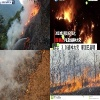fire: (50, 68, 100, 94), (25, 51, 46, 95), (25, 4, 40, 26), (79, 29, 93, 44), (56, 11, 71, 22), (20, 30, 24, 36)
